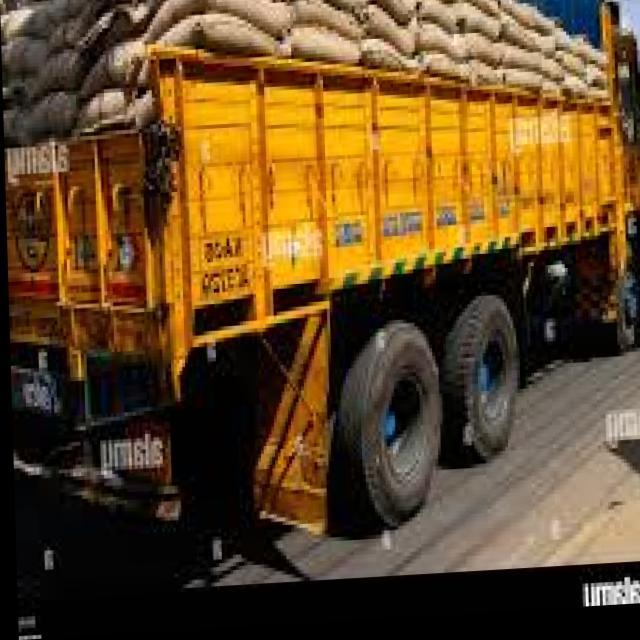uncovered: (0, 0, 640, 556)
